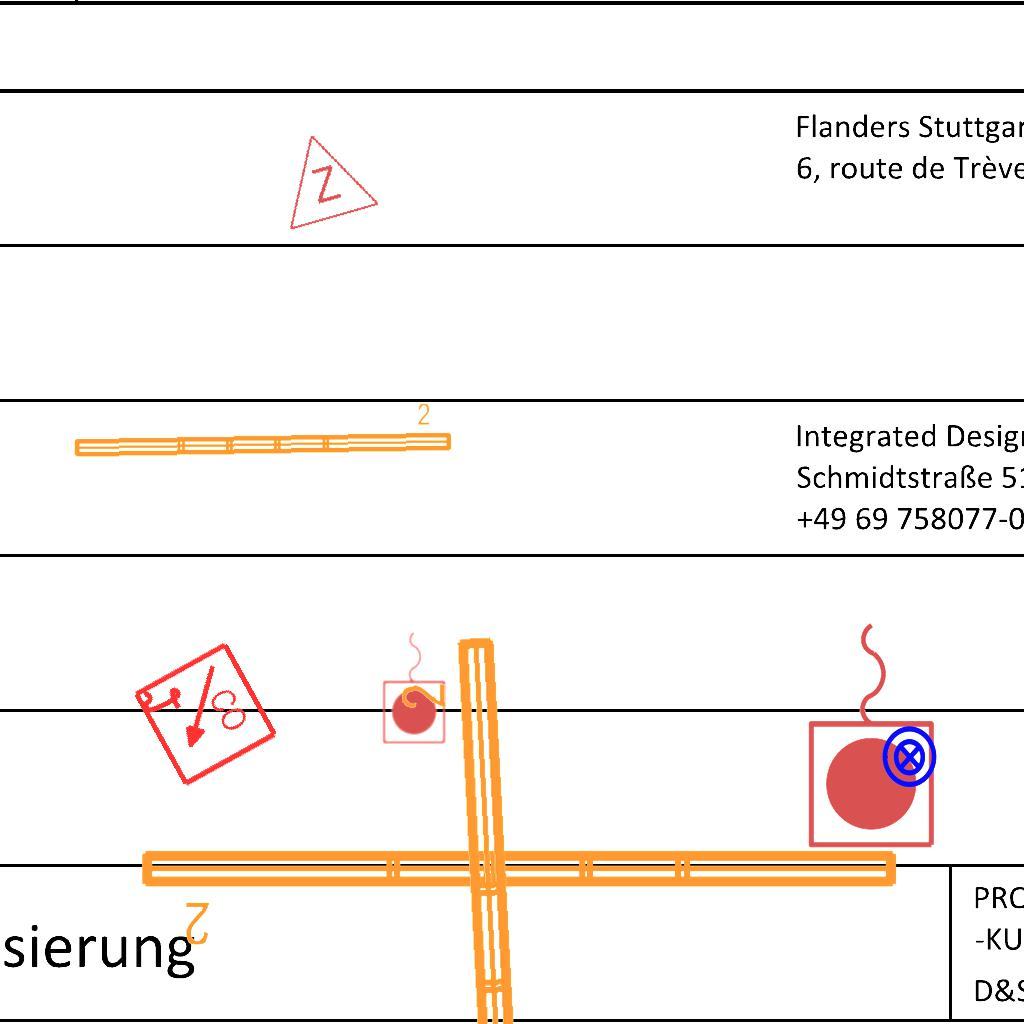Ambulanz_Pendelleuchte_LED: (133, 838, 907, 950), (393, 627, 547, 1024), (68, 400, 457, 464)
ROA_Rauchmelder_optisch_mit_Signalgeber_(Sockelsirene): (127, 638, 282, 793)
Taster_beleuchtet: (877, 724, 943, 790)
Zimmersignalleuchte: (261, 115, 383, 239)
Zugtaster: (801, 612, 945, 856), (379, 626, 451, 748)
